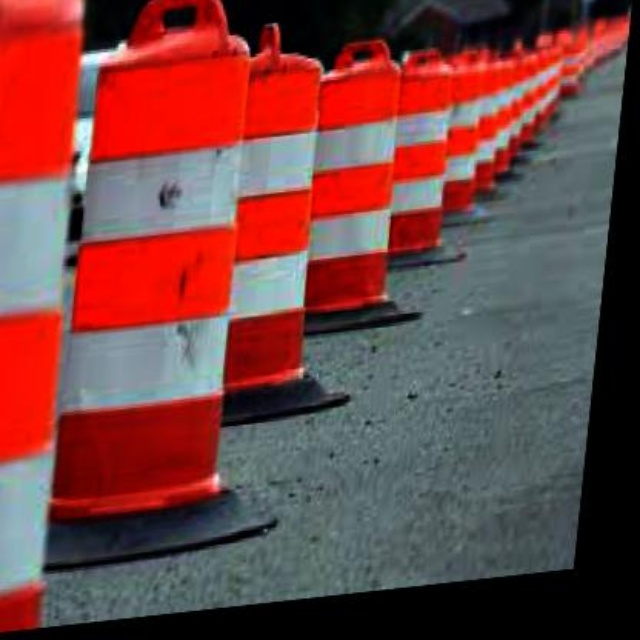obstacle: (63, 0, 274, 523), (227, 20, 346, 408), (307, 35, 422, 334)
